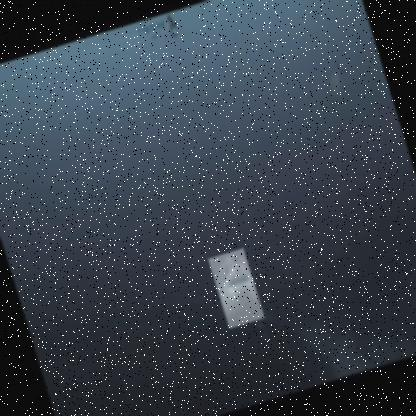white-shark: (206, 247, 264, 329)
